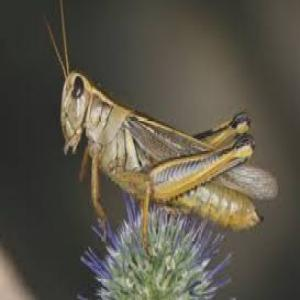locust: (47, 18, 287, 240)
